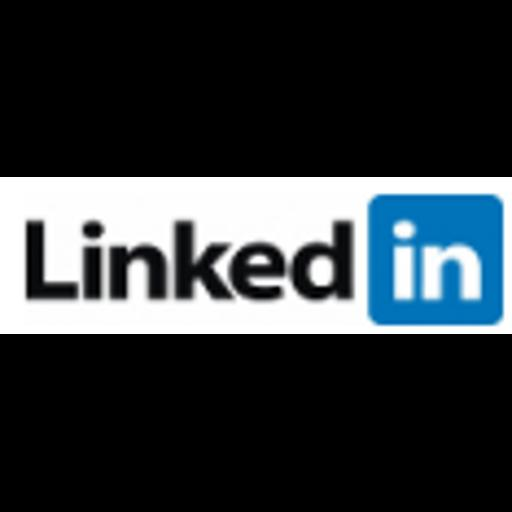LinkedIn Corporation: (0, 177, 512, 334)
